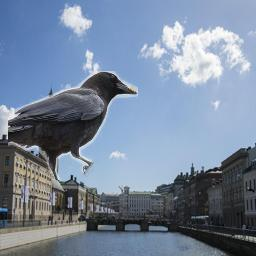Crow: (8, 71, 138, 180)
